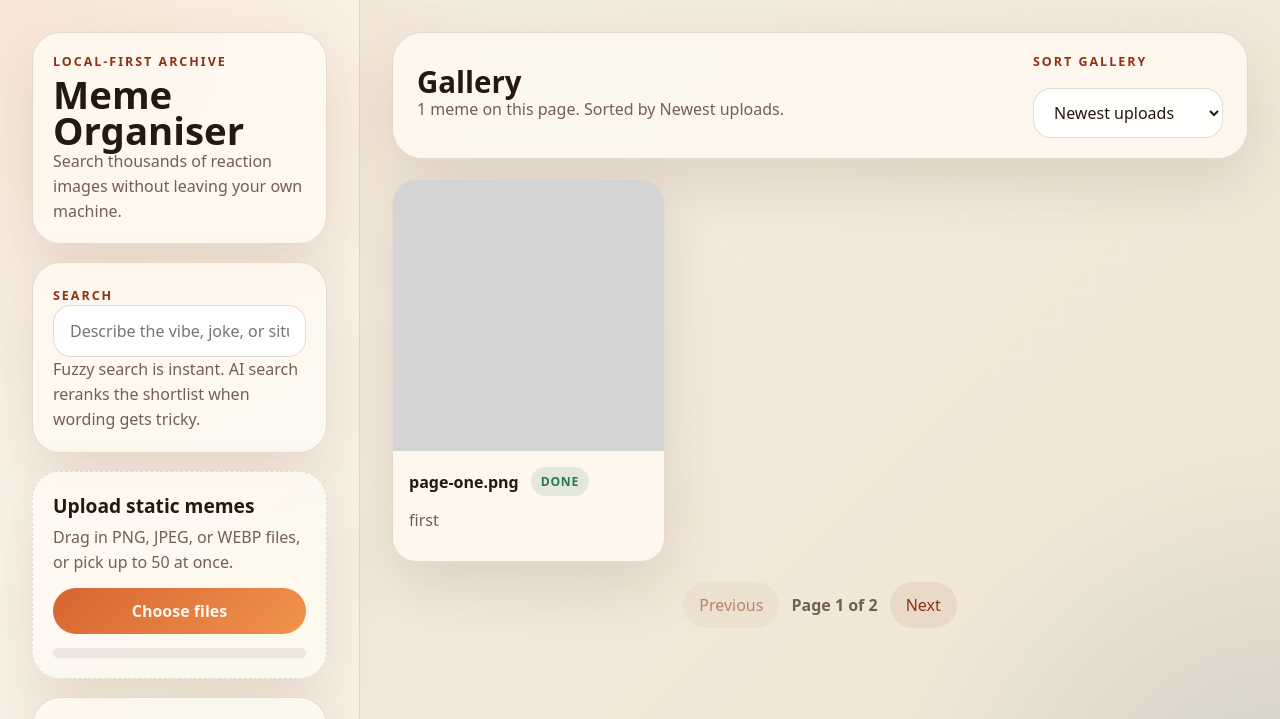
it: App › paginates through gallery pages
Check: the text "page-one.png" is shown, box [409,471,519,493]
Click the button "Next": (923, 605) [890,582,957,628]
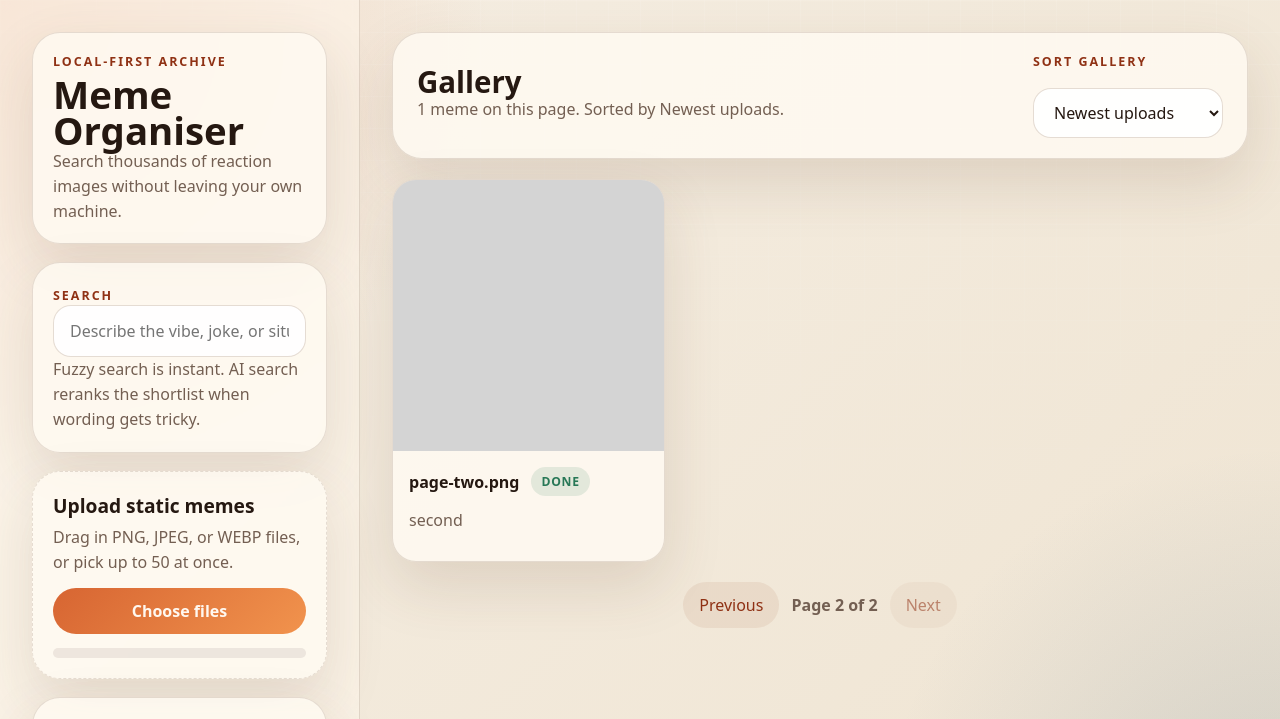
Check: the text "page-two.png" is shown, box [409,471,519,493]
Click the button "Previous": (731, 605) [683,582,780,628]
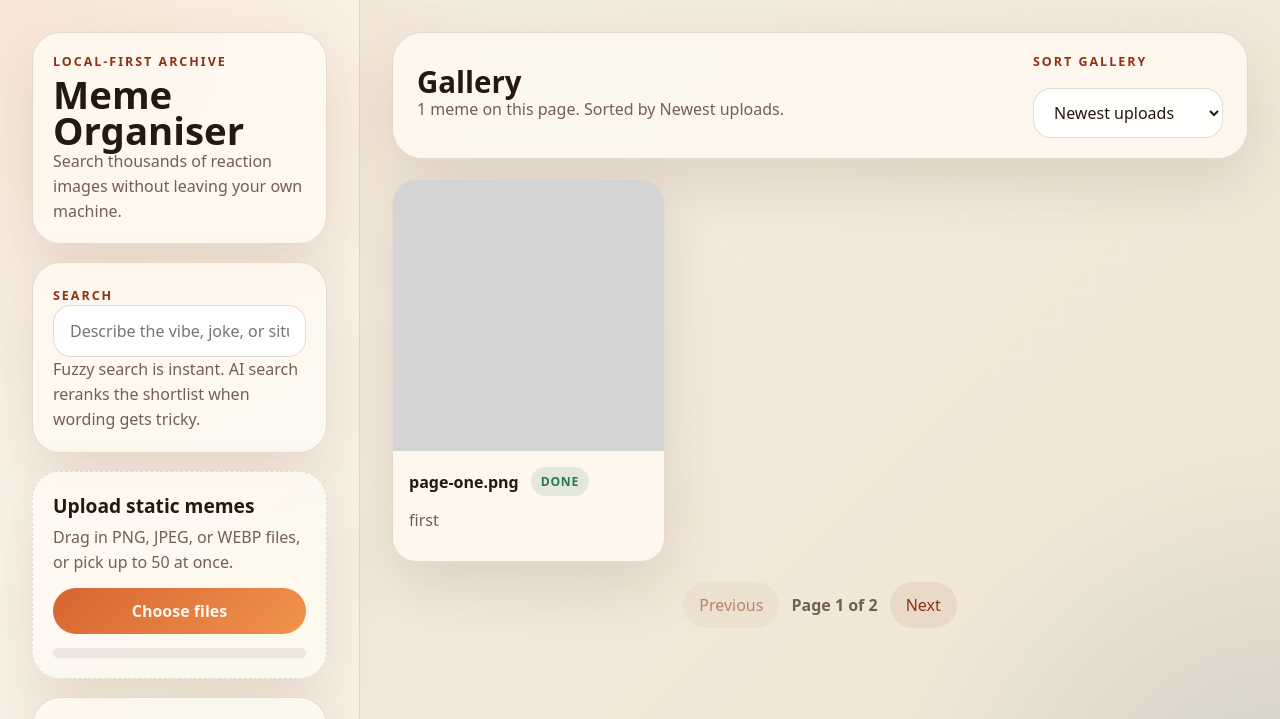
Check: the text "page-one.png" is shown, box [409,471,519,493]
